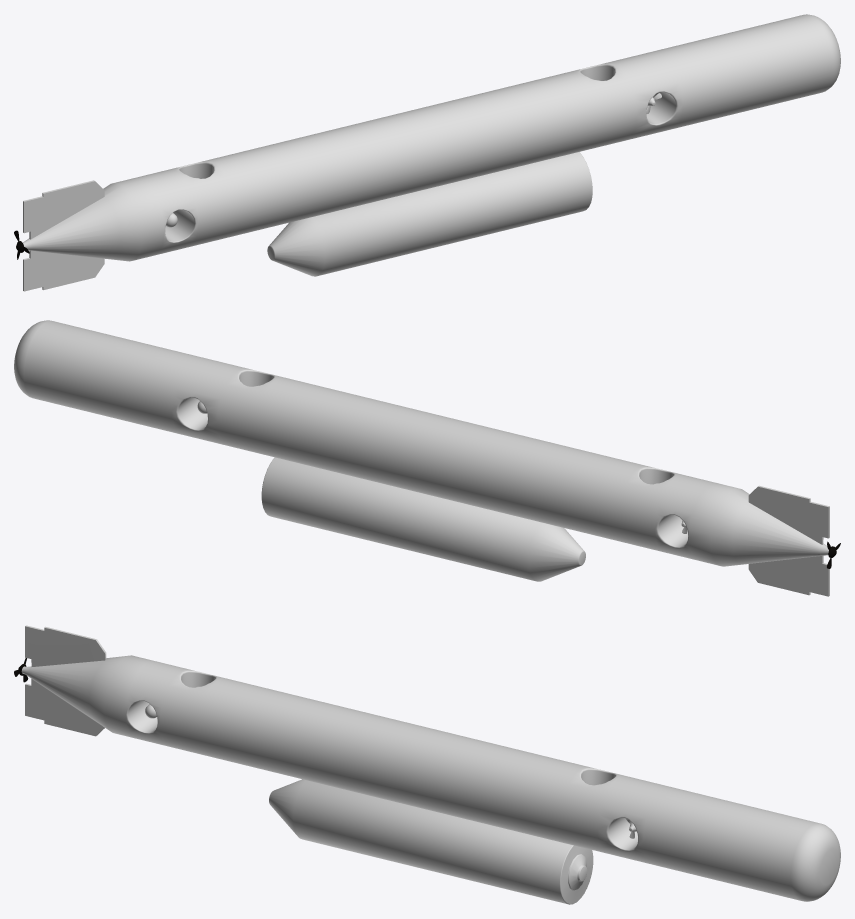
The model's file is UnderwaterVehicle.fbx.
3 renders of one model, top to bottom at view 1: azimuth 30°, elevation 25°; view 2: azimuth 150°, elevation 25°; view 3: azimuth 330°, elevation 25°, orthographic.
Parts seen in each view (by area): view 1: UWV_body; view 2: UWV_body; view 3: UWV_body.
Part boxes in pixels (x1,y1,x2,y2): UWV_body: (23, 14, 840, 291); UWV_body: (14, 320, 829, 596); UWV_body: (21, 625, 840, 904).
Size of the model in its own units: 758 by 130 by 65.
1 material, 1 textured.
